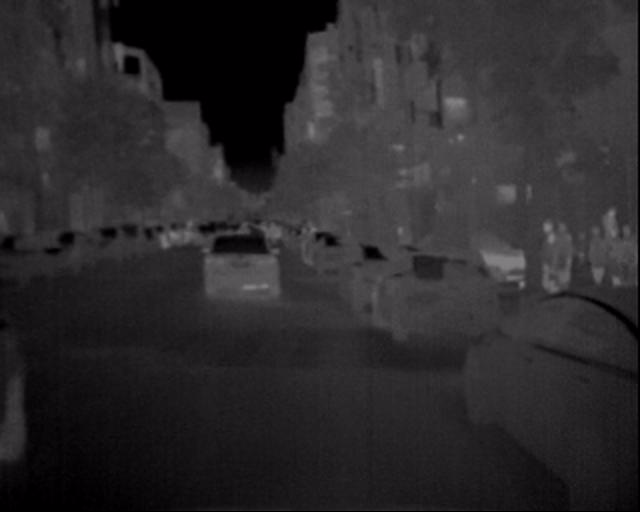person: (534, 195, 640, 302)
